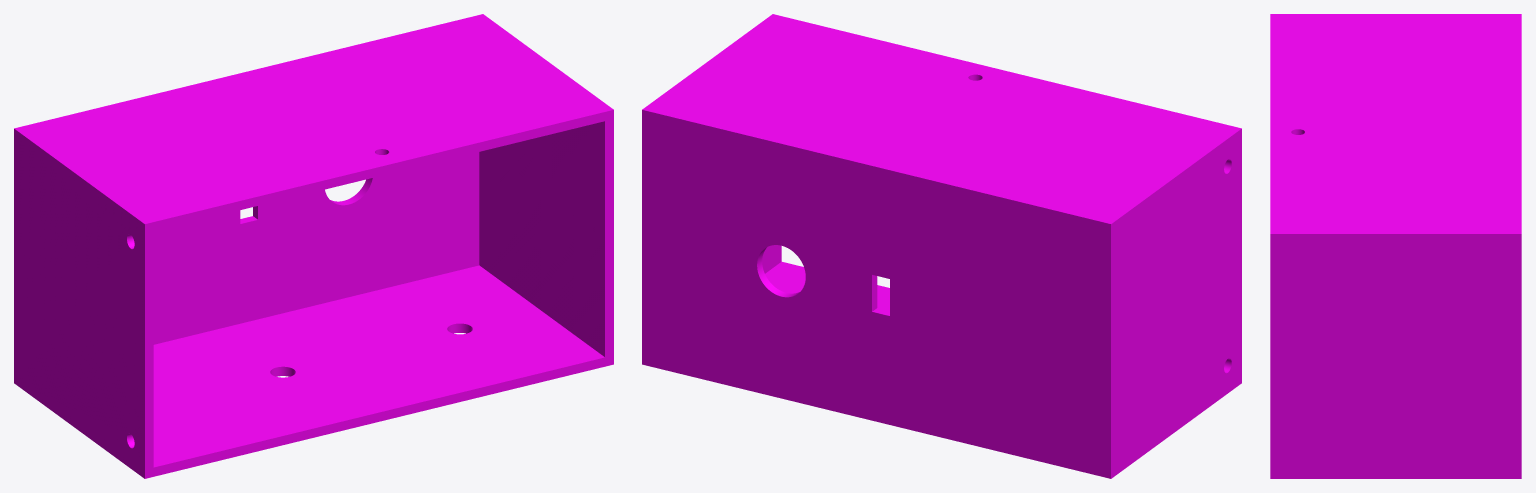
Rendered from _2025_Lunabotics_Hopper_Latch_MotorMount_Case.obj.
3 renders of one model, left to right at view 1: azimuth 30°, elevation 25°; view 2: azimuth 150°, elevation 25°; view 3: azimuth 270°, elevation 25°, orthographic. The views are drawn at different scales.
Parts seen in each view (by area): view 1: mesh1679, mesh1690, mesh1685, mesh1681, mesh1688, mesh1686; view 2: mesh1673, mesh1679, mesh1681, mesh1690; view 3: mesh1678, mesh1679.
Part boxes in pixels (bbox=[...]): mesh1679: bbox=[14, 14, 613, 223]; mesh1690: bbox=[153, 265, 604, 467]; mesh1685: bbox=[153, 152, 479, 344]; mesh1681: bbox=[14, 129, 144, 478]; mesh1688: bbox=[479, 121, 604, 356]; mesh1686: bbox=[145, 110, 613, 478]; mesh1673: bbox=[642, 110, 1110, 478]; mesh1679: bbox=[642, 14, 1241, 223]; mesh1681: bbox=[1111, 129, 1241, 478]; mesh1690: bbox=[765, 261, 889, 310]; mesh1678: bbox=[1270, 234, 1521, 478]; mesh1679: bbox=[1270, 14, 1521, 233].
Size of the model in its own units: 0.1346 by 0.0698 by 0.065.
